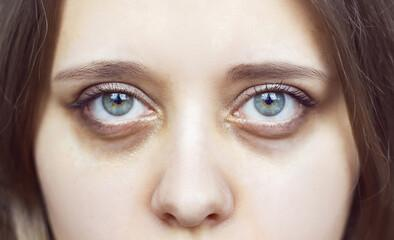Eyebags: (226, 112, 310, 155), (76, 112, 156, 152)
